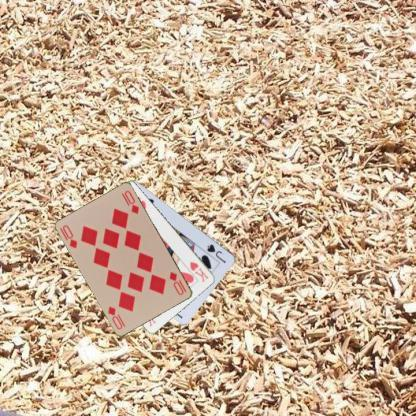10d: (58, 222, 78, 250), (166, 270, 186, 297)
Js: (204, 242, 228, 264)
Kh: (187, 259, 210, 284)
